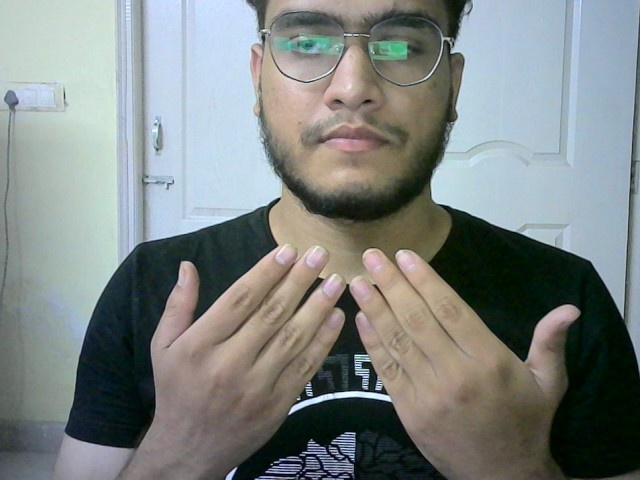Thank You: (150, 240, 587, 434)
